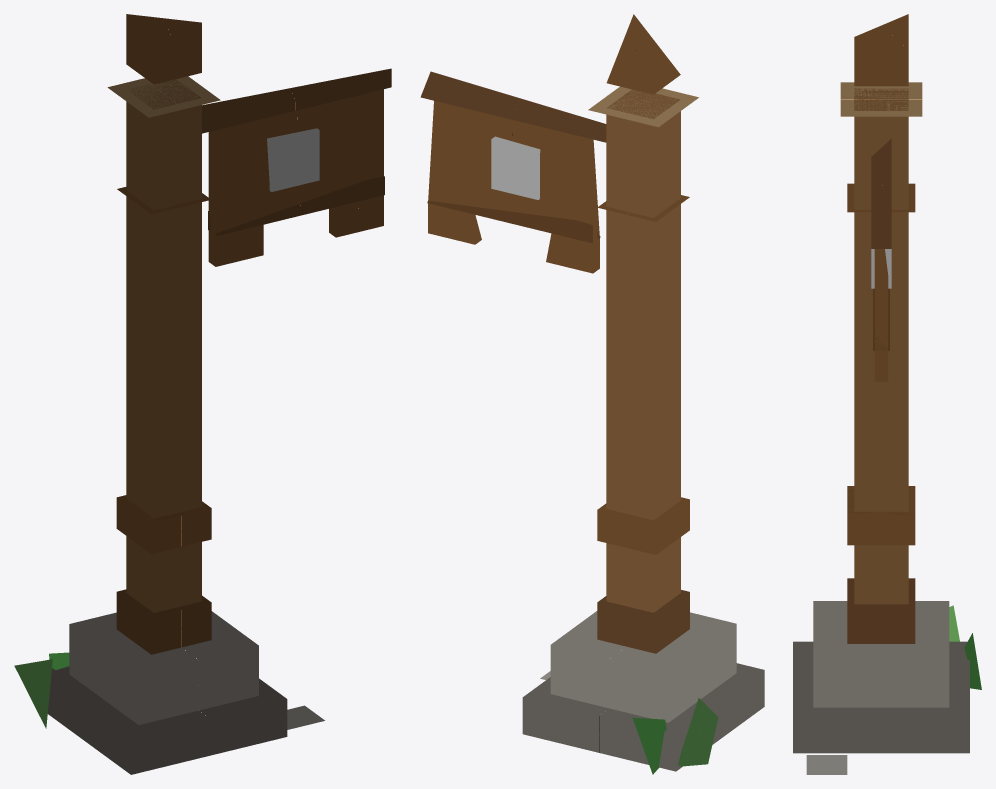
File: territory-marker-bear_lod1.glb
The picture shows the model from 3 angles, left to right: view 1: azimuth 30°, elevation 25°; view 2: azimuth 150°, elevation 25°; view 3: azimuth 270°, elevation 25°; orthographic projection. The views are drawn at different scales.
Visible parts, largest first — view 1: marker-post, banner; view 2: marker-post, banner; view 3: marker-post, banner.
Boxes of the visible parts, box(x1,y1,x2,y2) form: marker-post: box(14, 14, 324, 774); banner: box(202, 68, 391, 266); marker-post: box(522, 14, 764, 774); banner: box(420, 71, 606, 273); marker-post: box(793, 14, 981, 774); banner: box(871, 139, 891, 381).
Size of the model in its own units: 0.5581 by 1.12 by 0.2778.
